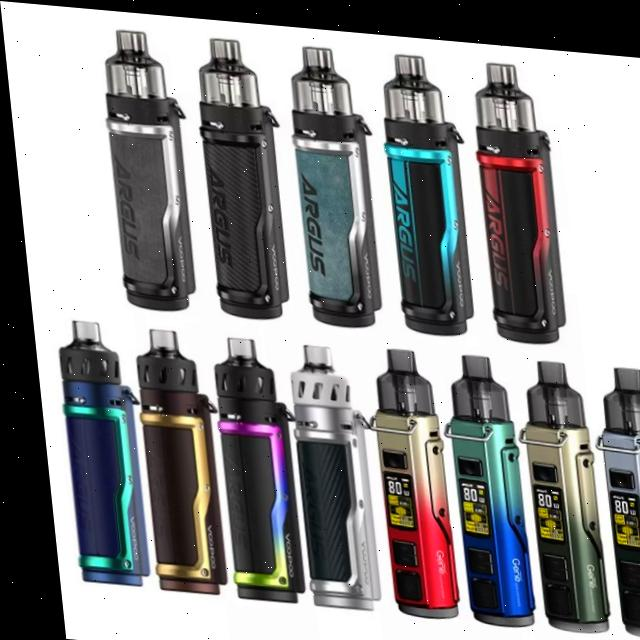vape: (282, 39, 387, 326), (374, 46, 479, 332), (96, 25, 200, 312), (189, 32, 293, 318), (465, 51, 565, 337), (503, 348, 601, 626), (278, 337, 378, 608), (201, 331, 301, 601), (123, 323, 222, 594), (45, 317, 144, 587), (429, 344, 525, 622), (354, 339, 450, 614), (580, 354, 640, 631)
